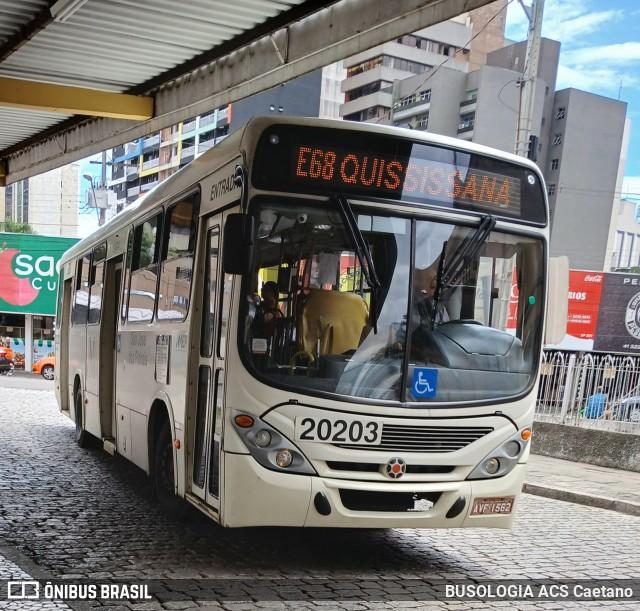QUISSISSANA: (334, 145, 518, 215)
